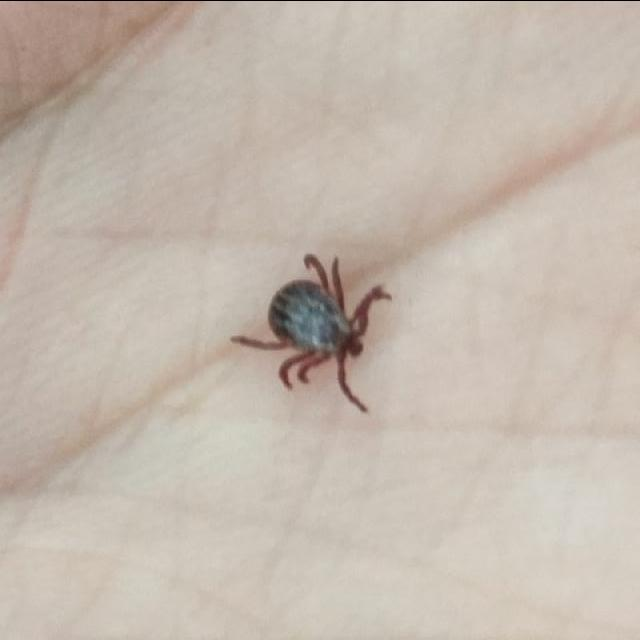Dermacentor Reticulatus-M: (231, 253, 392, 412)
